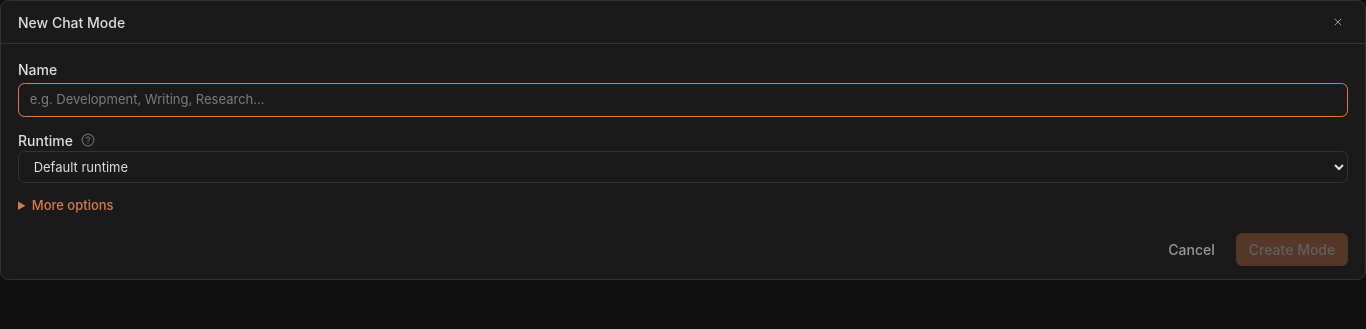
Test: chat mode creation › shows the domain error without Electron transport plumbing
This screenshot has width=1366, height=329.
Type "Duplicate" into the field labelled "Name" at coordinates (683, 100), box [18,82,1348,117]
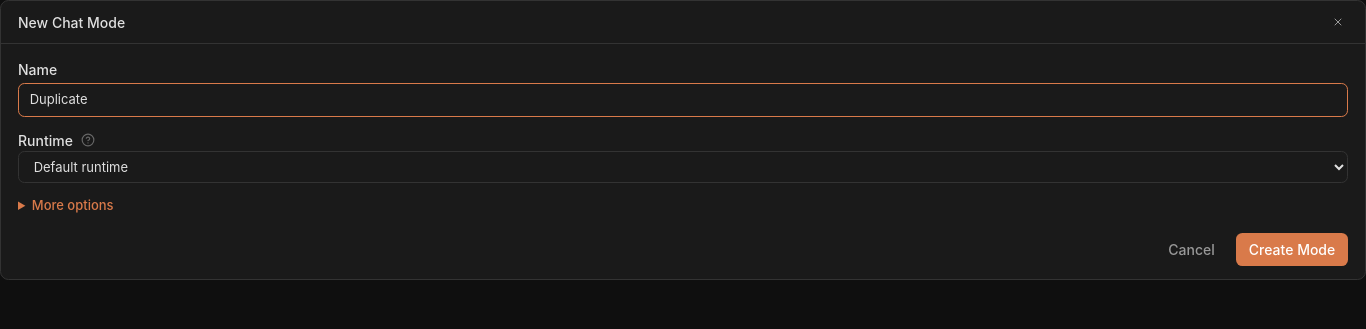
Submit the form "New Chat Mode"
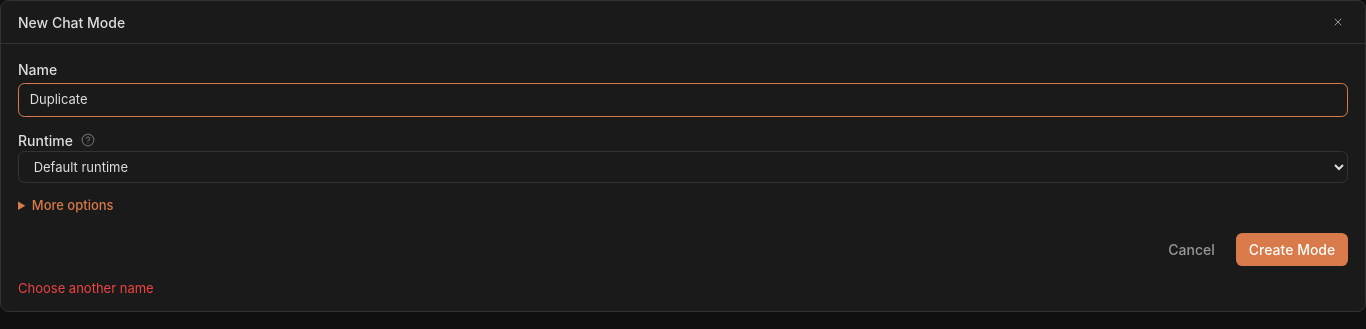
Expected: the message reads "Choose another name", [18,280,154,296]
